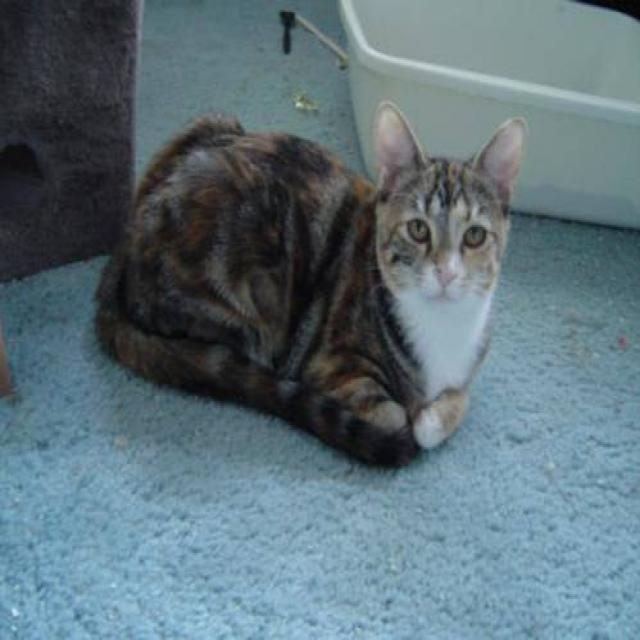cat: (91, 99, 527, 469)
